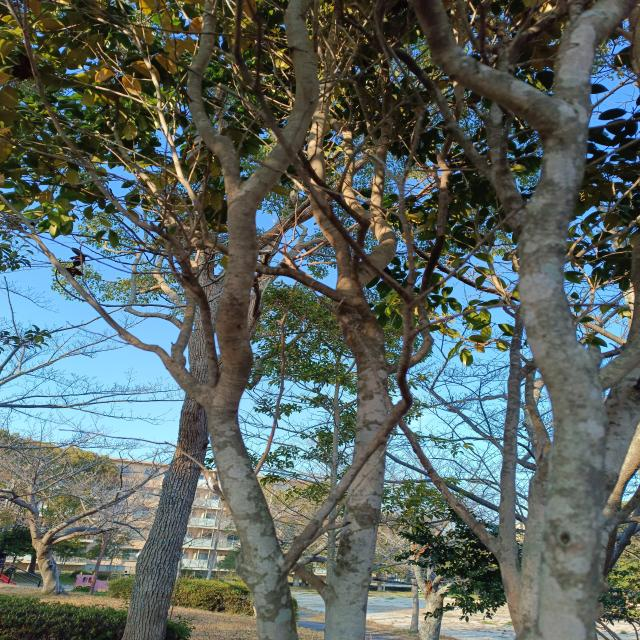Branch: (207, 178, 301, 640), (514, 99, 604, 530), (411, 0, 552, 131), (251, 1, 320, 212), (328, 114, 398, 285), (188, 0, 239, 195), (553, 0, 638, 111)
Twig: (232, 0, 415, 566), (119, 0, 377, 322), (24, 0, 201, 286), (0, 195, 203, 403), (373, 367, 497, 558), (398, 48, 492, 176), (166, 237, 220, 384), (481, 43, 522, 235), (498, 312, 523, 593), (171, 292, 196, 367)
